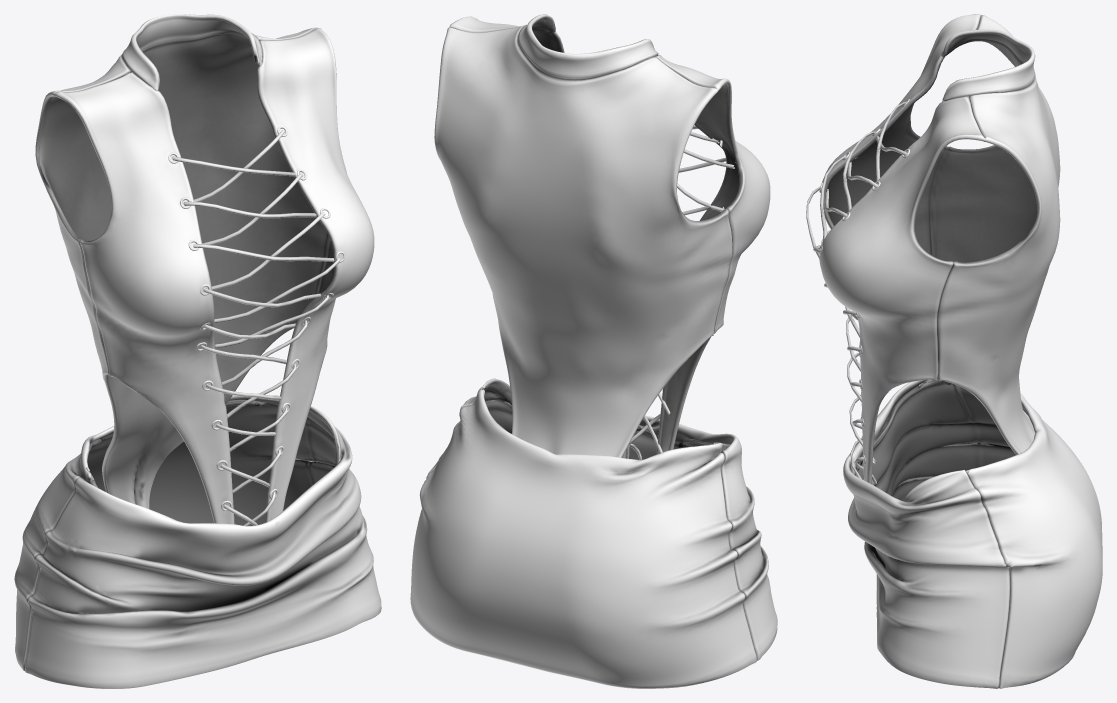
Rendered from croptop5.glb.
3 views of the same model, side by side, from view 1: azimuth 30°, elevation 25°; view 2: azimuth 150°, elevation 25°; view 3: azimuth 270°, elevation 25° (orthographic). The views are drawn at different scales.
Visible parts, largest first — view 1: bodysuit01, skirt01; view 2: bodysuit01, skirt01; view 3: bodysuit01, skirt01.
Part boxes in pixels (x1,y1,x2,y2): bodysuit01: (35,14,374,526); skirt01: (14,395,381,688); bodysuit01: (434,14,770,459); skirt01: (410,378,777,688); bodysuit01: (806,14,1060,485); skirt01: (843,379,1102,688).
Size of the model in its own units: 0.4086 by 0.6972 by 0.3296.
4 materials, 4 textured.
